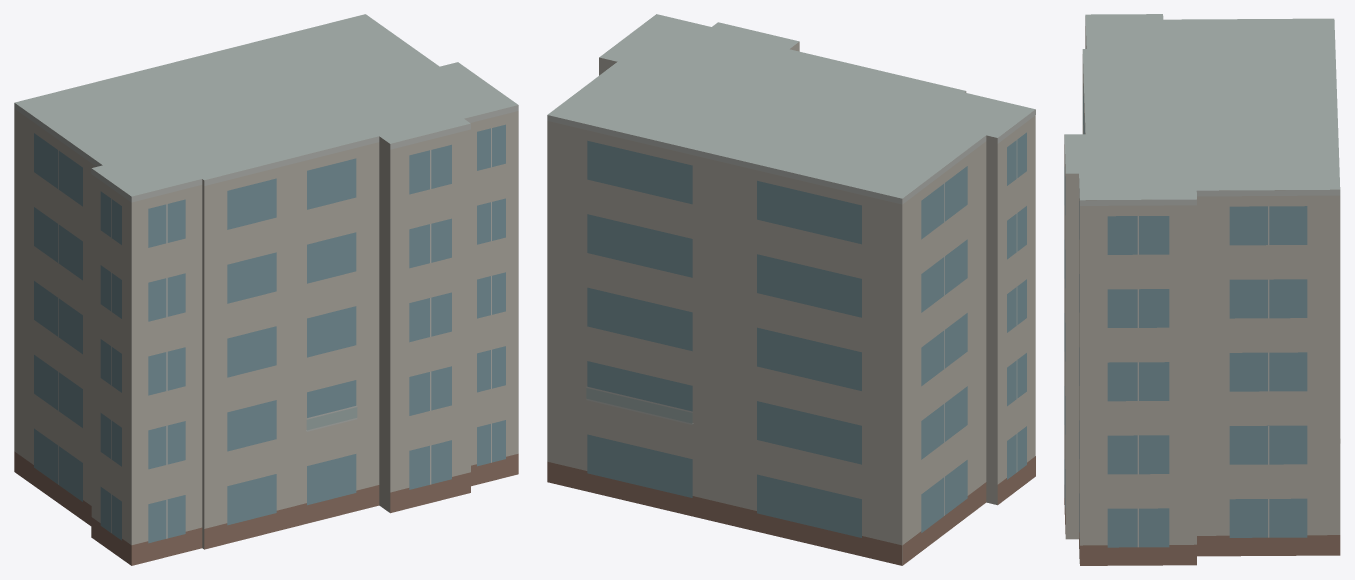
File: survey-upis-32673792.glb
3 views of the same model, side by side, from view 1: azimuth 30°, elevation 25°; view 2: azimuth 150°, elevation 25°; view 3: azimuth 270°, elevation 25° (orthographic).
Visible parts, largest first — view 1: survey-upis-32673792.tmp; view 2: survey-upis-32673792.tmp; view 3: survey-upis-32673792.tmp.
Part boxes in pixels (<box>): survey-upis-32673792.tmp: <box>14,14,518,565</box>; survey-upis-32673792.tmp: <box>547,14,1035,565</box>; survey-upis-32673792.tmp: <box>1064,14,1340,565</box>.
Size of the model in its own units: 16.71 by 15.3 by 10.48.
